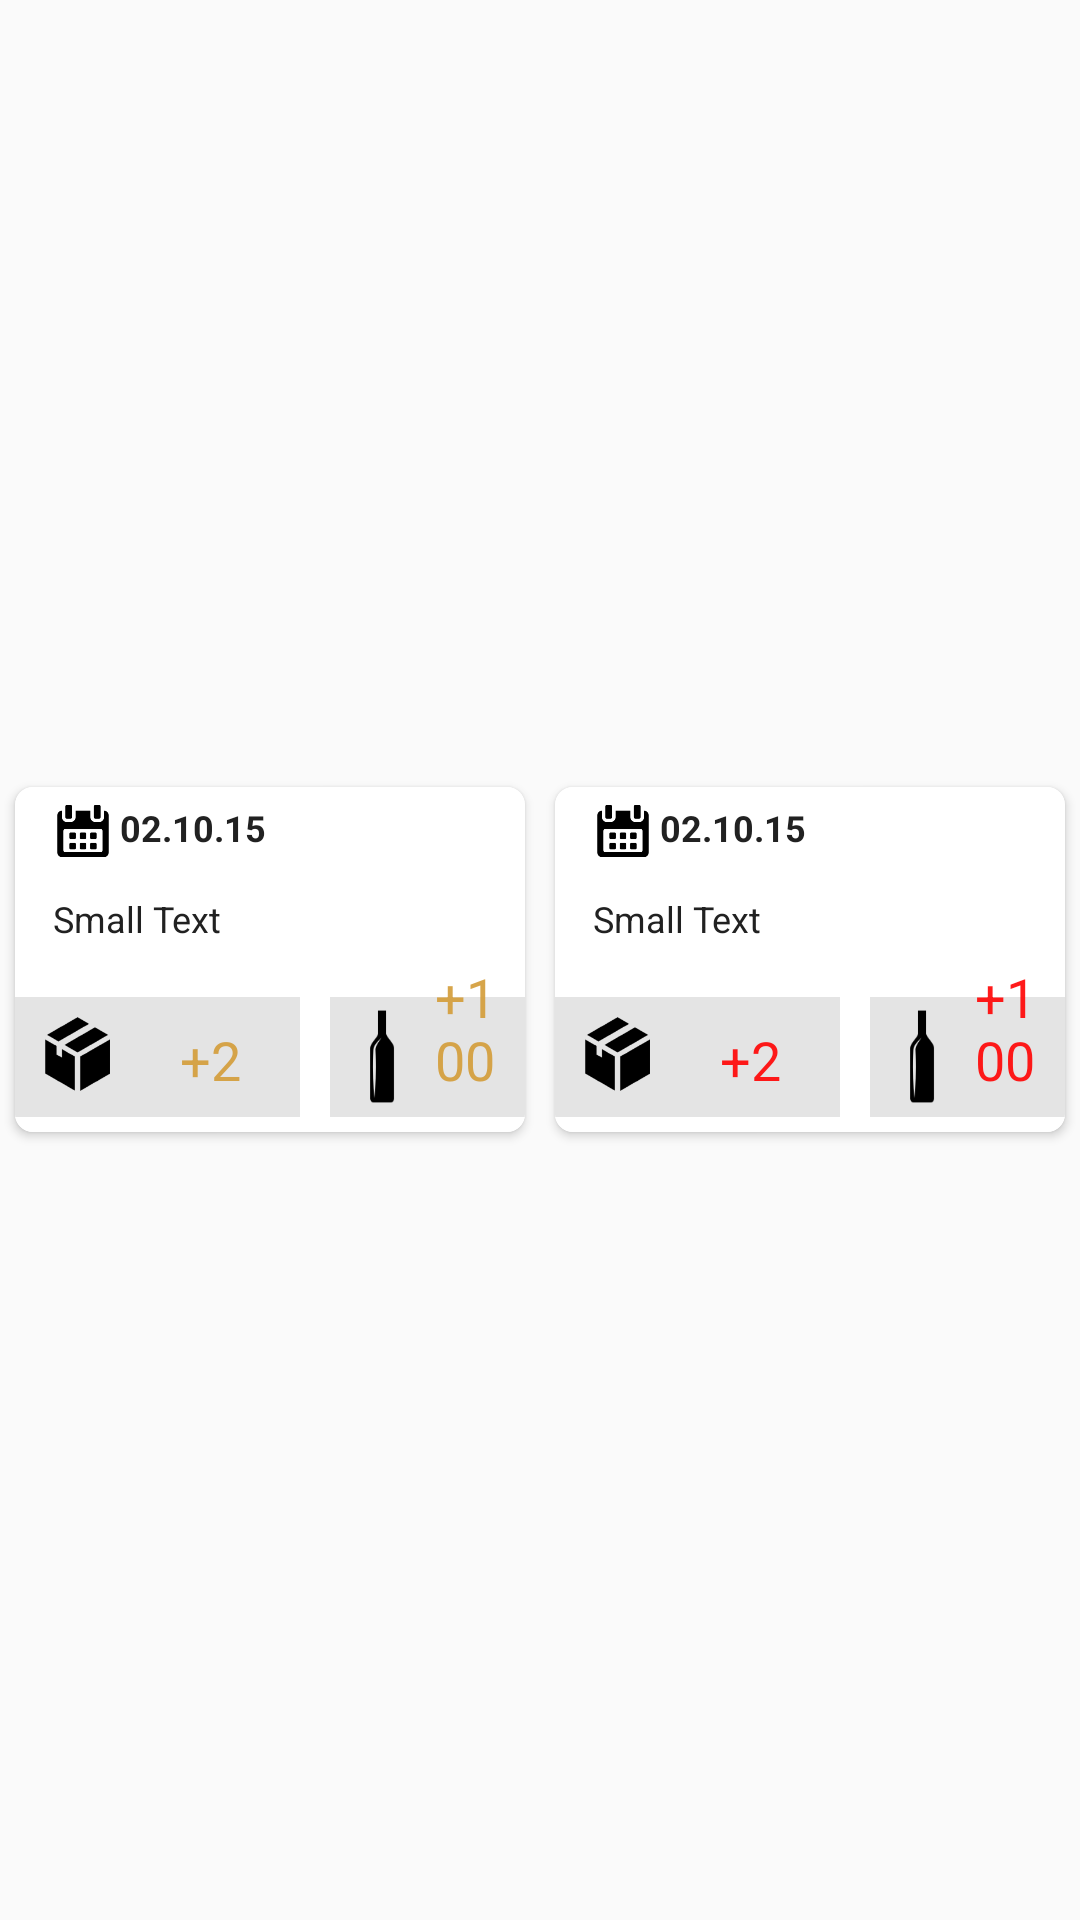

Named icons in this screenshot (1080px x 1920px) and their bounding boxes, (x1, y1, x2, y2):
box: (45, 1017, 110, 1091), (585, 1017, 650, 1091)
calendar: (57, 805, 109, 857), (597, 805, 649, 857)
wine _in_list: (330, 997, 435, 1117), (870, 997, 975, 1117)
